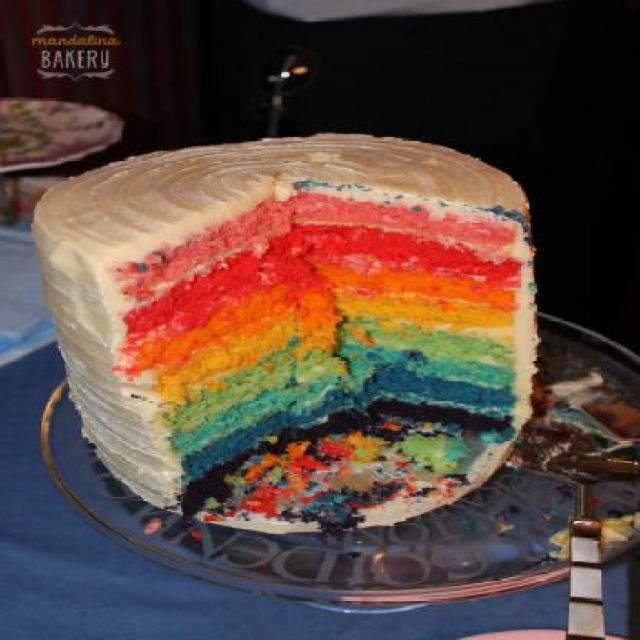Cake: (35, 130, 538, 524)
